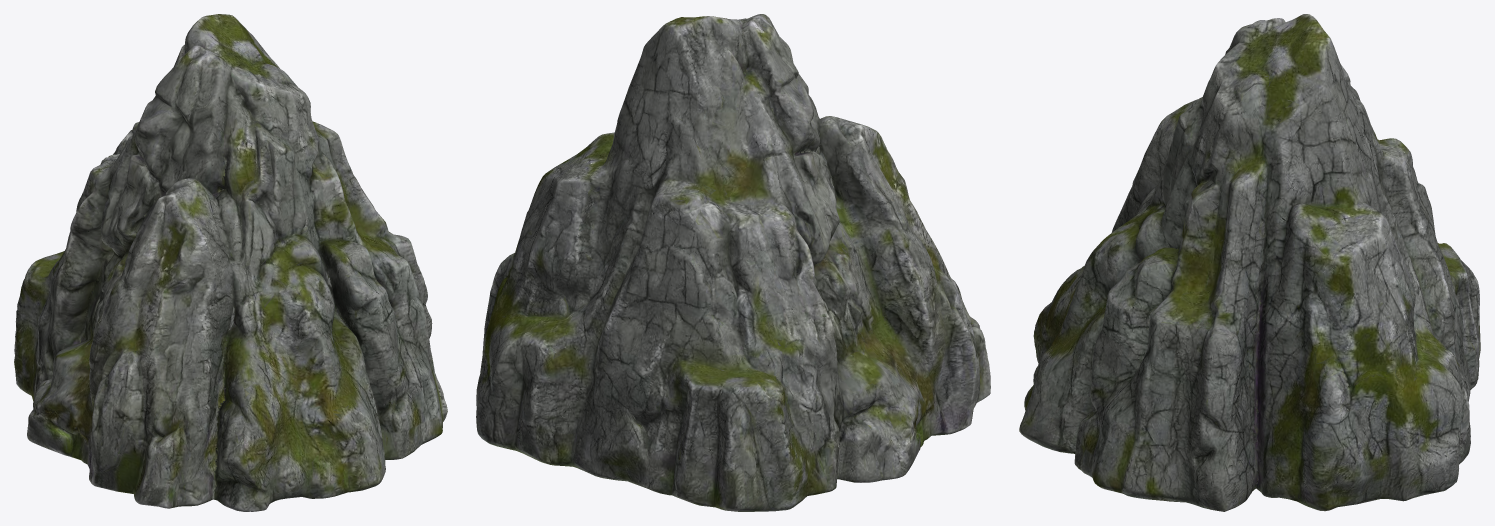
The model's file is mountain.glb.
The picture shows the model from 3 angles, left to right: view 1: azimuth 30°, elevation 25°; view 2: azimuth 150°, elevation 25°; view 3: azimuth 270°, elevation 25°; orthographic projection. The views are drawn at different scales.
Visible parts, largest first — view 1: Mesh_0; view 2: Mesh_0; view 3: Mesh_0.
Boxes of the visible parts, x1=… form: Mesh_0: x1=14, y1=14, x2=447, y2=511; Mesh_0: x1=476, y1=14, x2=990, y2=511; Mesh_0: x1=1019, y1=14, x2=1480, y2=511.
Size of the model in its own units: 1.88 by 1.86 by 1.91.
Materials: 1 (1 with a texture image).
